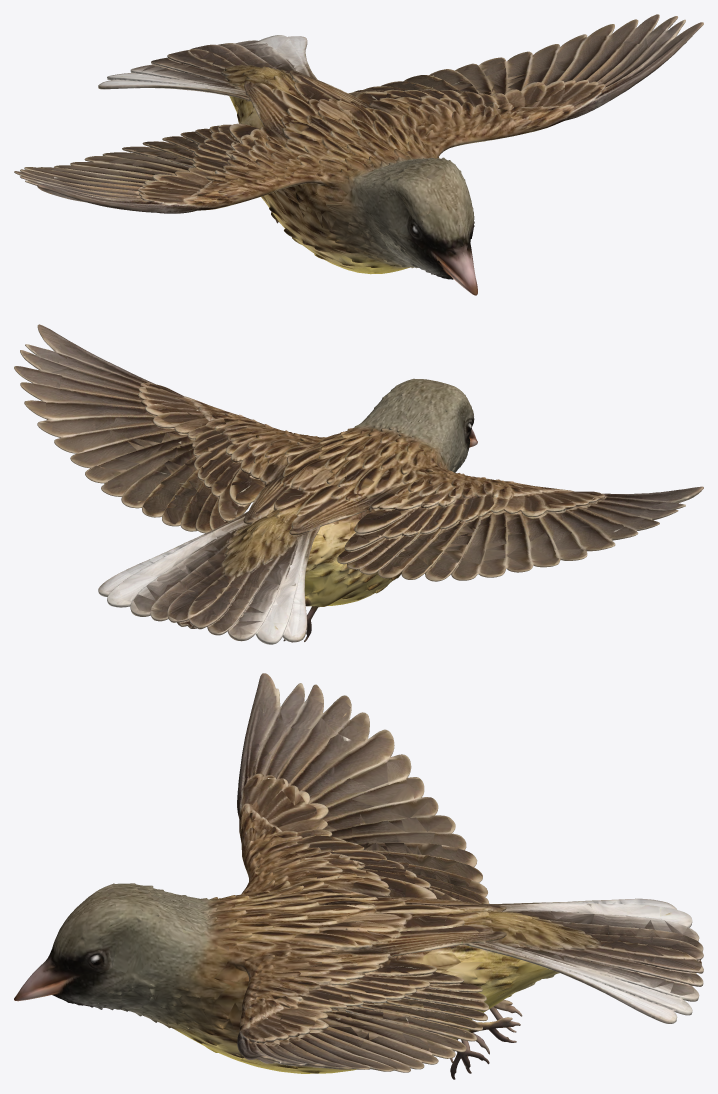
File: Emberiza_spodocephala.glb
3 views of the same model, one above another, from view 1: azimuth 30°, elevation 25°; view 2: azimuth 150°, elevation 25°; view 3: azimuth 270°, elevation 25° (orthographic). The views are drawn at different scales.
Parts seen in each view (by area): view 1: orient; view 2: orient; view 3: orient.
Boxes of the visible parts, x1=… form: orient: x1=14, y1=14, x2=703, y2=295; orient: x1=14, y1=324, x2=703, y2=644; orient: x1=14, y1=673, x2=703, y2=1079.
Size of the model in its own units: 0.5001 by 0.1256 by 0.3789.
Materials: 1 (1 with a texture image).
